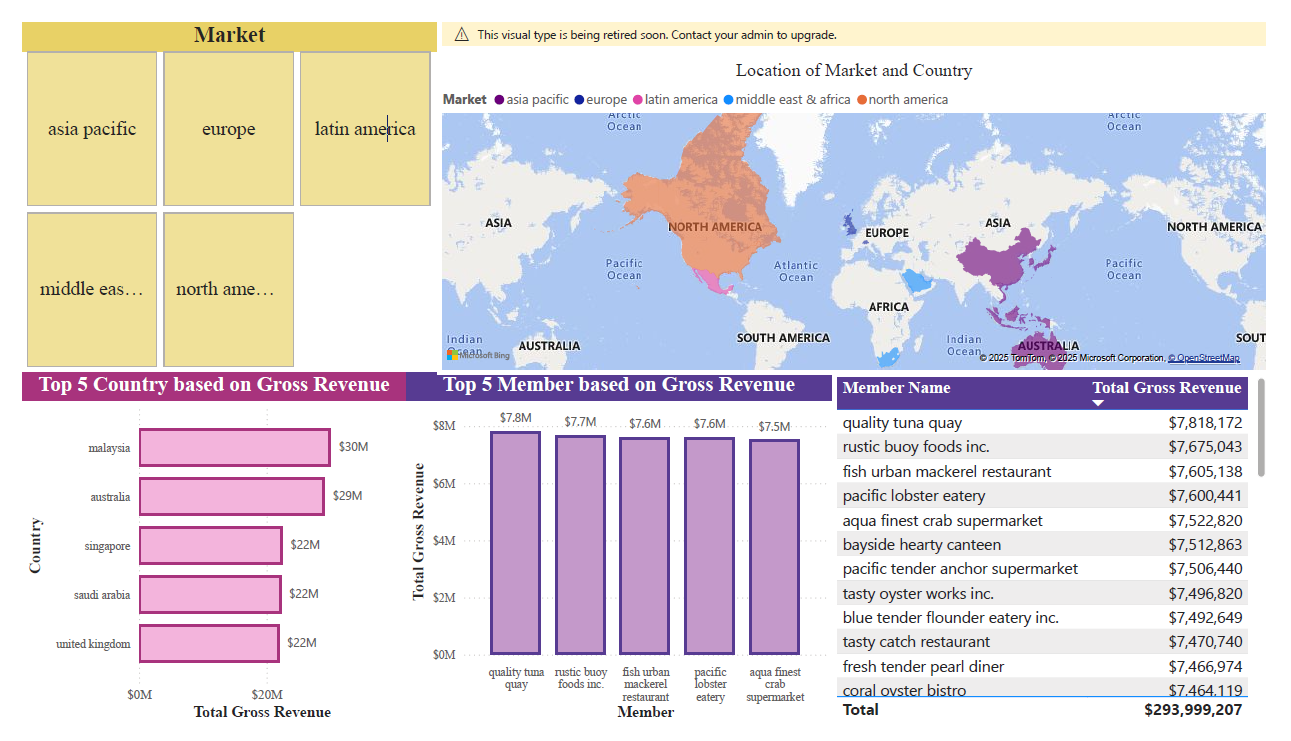

The page's visual inventory and layout, read from the dashboard file:
{"tool":"powerbi","page":{"name":"Customer Analysis","canvas":[1280,720],"ordinal":5},"visuals":[{"type":"tableEx","fields":{"Values":["member data.member name","Sum(orderdata.grossRevenue)"]},"box":[830.3,359.5,450.1,361.1],"z":0},{"type":"advancedSlicerVisual","title":"Market","fields":{"Values":["country.market"]},"box":[0,0,424.7,359.5],"z":1000},{"type":"clusteredColumnChart","title":"Top 5 Member based on Gross Revenue","fields":{"Y":["Sum(orderdata.grossRevenue)"],"Category":["member data.member name"]},"box":[392.9,359.5,437.4,361.1],"z":2000},{"type":"clusteredBarChart","title":"Top 5 Country based on Gross Revenue","fields":{"Category":["country.country"],"Y":["Sum(orderdata.gross revenue)"]},"box":[0,359.5,392.9,361.1],"z":3000},{"type":"filledMap","title":"Location of Market and Country","fields":{"Category":["country.country"],"Series":["country.market"]},"box":[426.3,0,854.2,361.1],"z":4000}]}

Visuals, with their boxes in screenshot pixels (x1, y1, x2, y2), scaled from the page's 1280x720 canvas onto the 1291x741 screenshot:
tableEx - member data.member name x Sum(orderdata.grossRevenue): <region>837, 370, 1290, 740</region>
"Market" advancedSlicerVisual: <region>0, 0, 428, 370</region>
"Top 5 Member based on Gross Revenue" clusteredColumnChart: <region>396, 370, 837, 740</region>
"Top 5 Country based on Gross Revenue" clusteredBarChart: <region>0, 370, 396, 740</region>
"Location of Market and Country" filledMap: <region>430, 0, 1290, 372</region>
